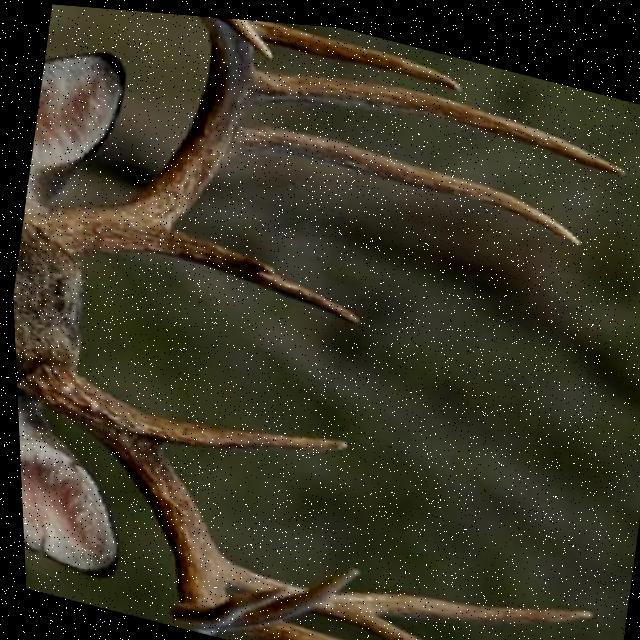L-G1: (119, 397, 345, 449)
R-F: (30, 13, 274, 256)
R-G1: (141, 226, 361, 321)
R-G2: (228, 119, 580, 234)
R-G3: (245, 64, 624, 164)
